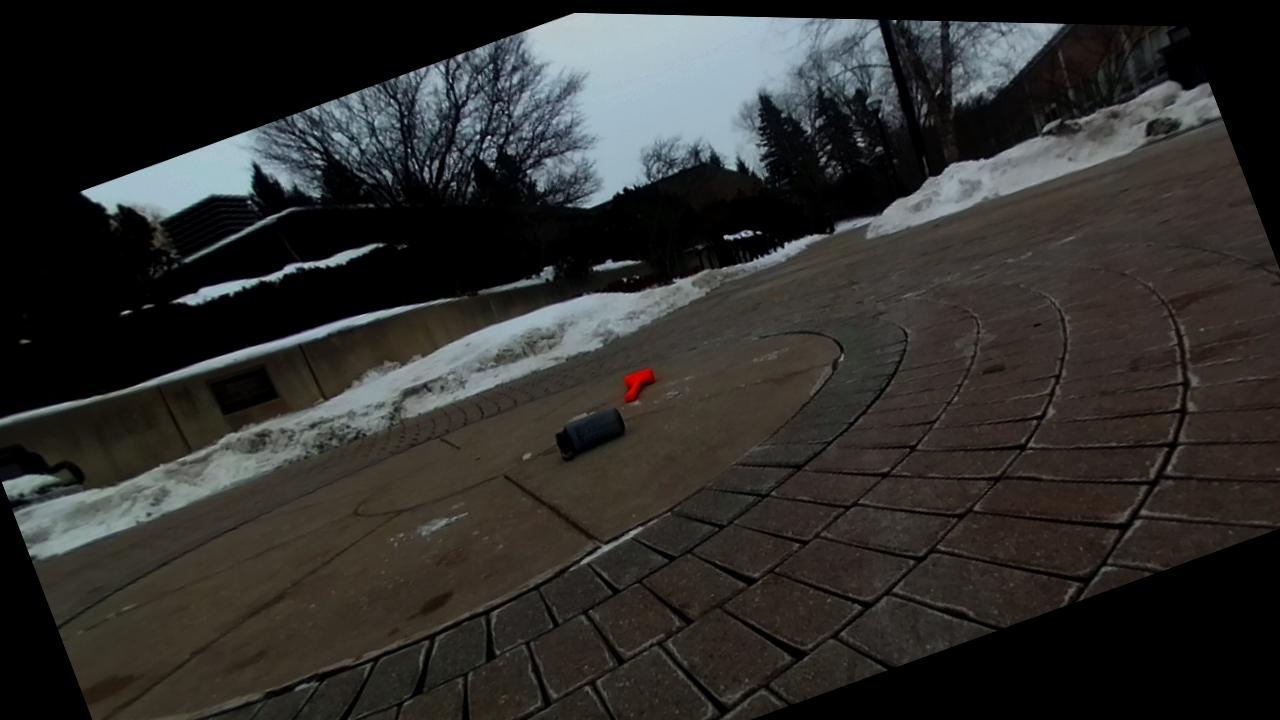bottle: (555, 408, 623, 460)
mallet: (623, 368, 654, 402)
